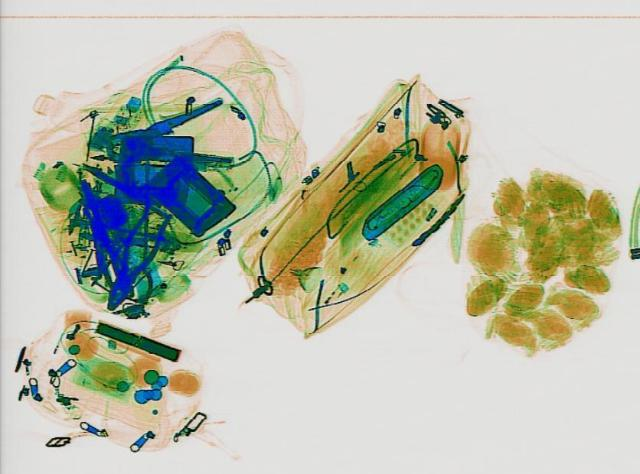Pliers: (96, 97, 240, 176), (90, 200, 176, 312)
